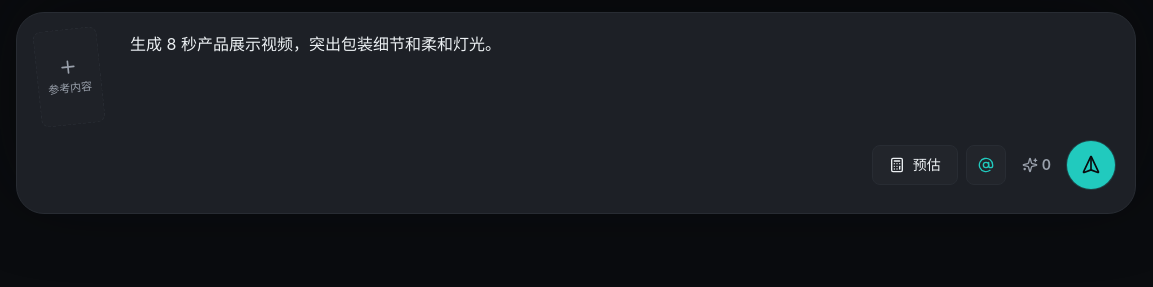
Scenario: GenerationComposer › shows all assets in the mention menu with unavailable reasons
Replace the text in the text box labelled "Prompt" with "@" at (622, 69), box left=129, top=29, right=1115, bottom=109
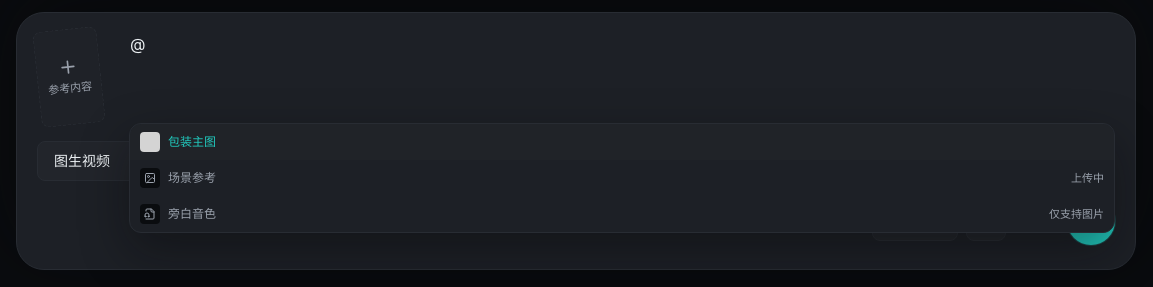
Check: the option "包装主图" is shown, box left=130, top=124, right=1114, bottom=160
Check: the text "场景参考" is shown, box left=168, top=170, right=216, bottom=186
Check: the text "上传中" is shown, box left=1071, top=171, right=1104, bottom=185
